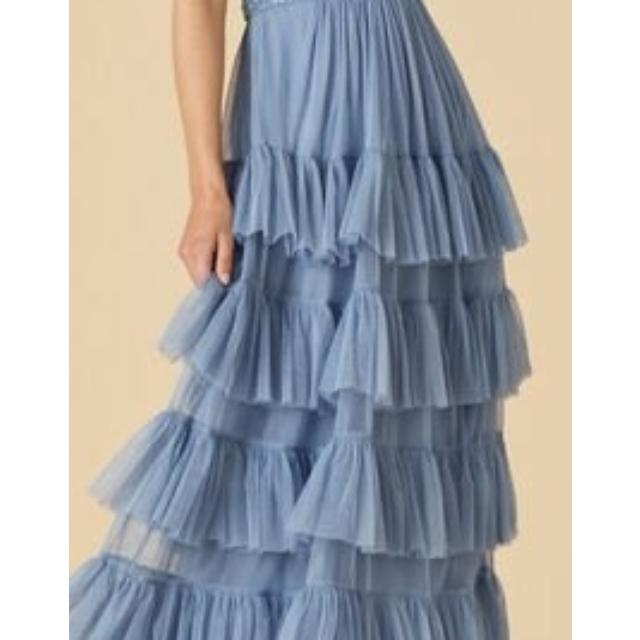polyester: (212, 0, 524, 640)
